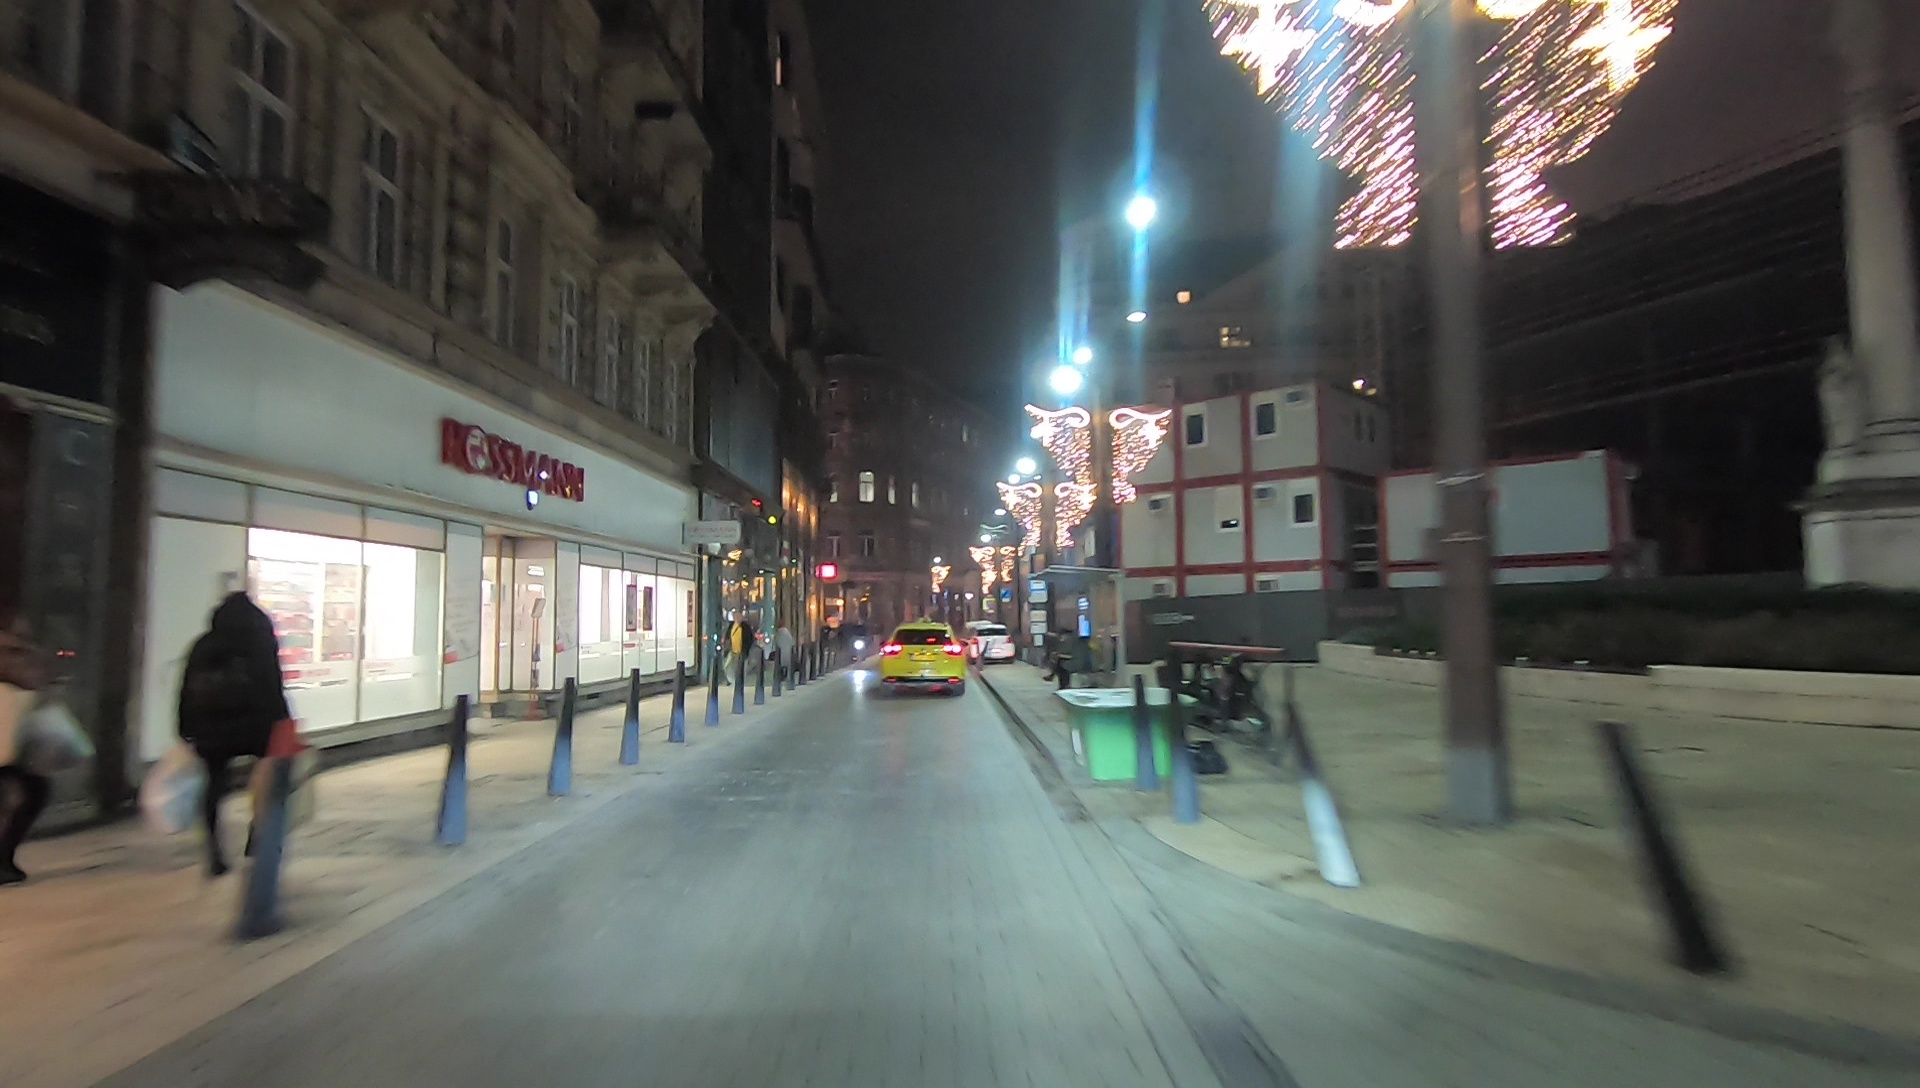person: (184, 571, 319, 880), (1, 606, 82, 891), (718, 615, 752, 689), (772, 622, 795, 690)
